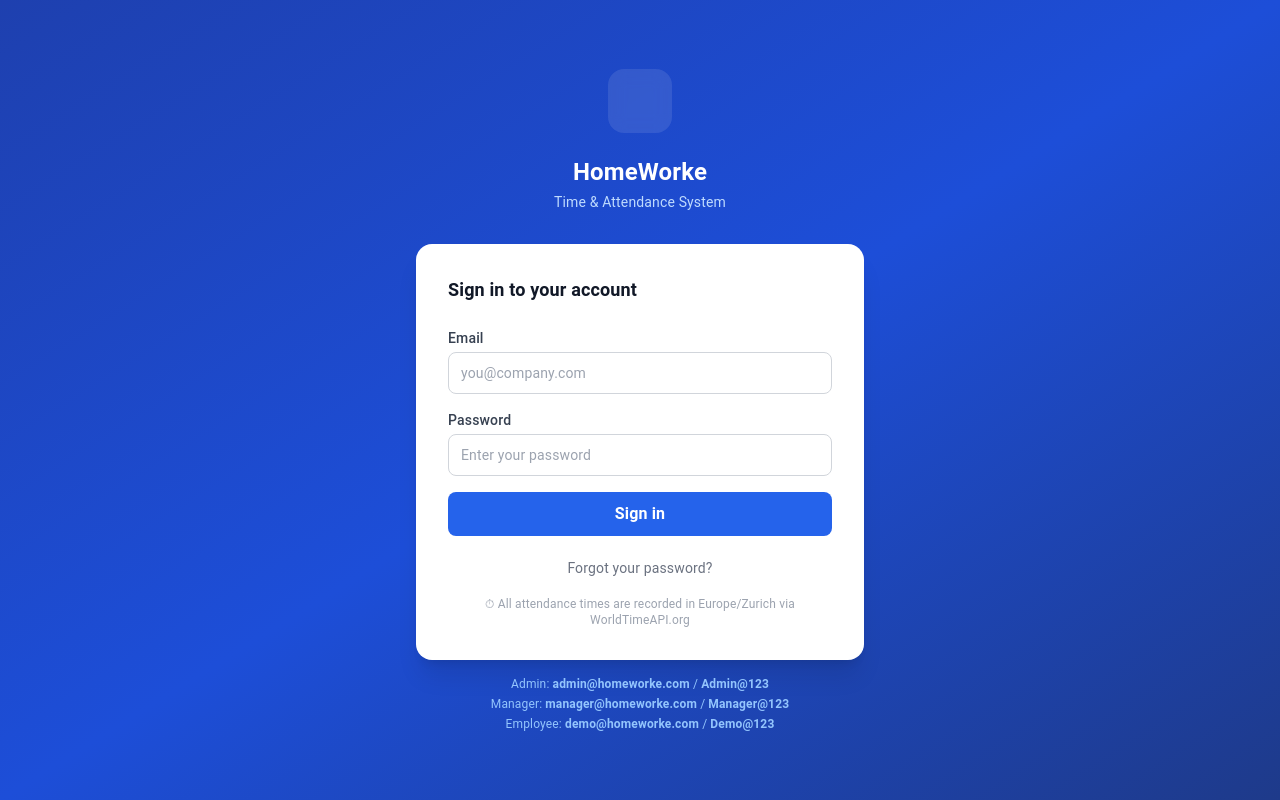
LoginPage › should show error on login failure
The image size is (1280, 800).
Type "bad@test.com" into the field with placeholder "you@company.com". click: (640, 372)
box: [448,352,832,394]
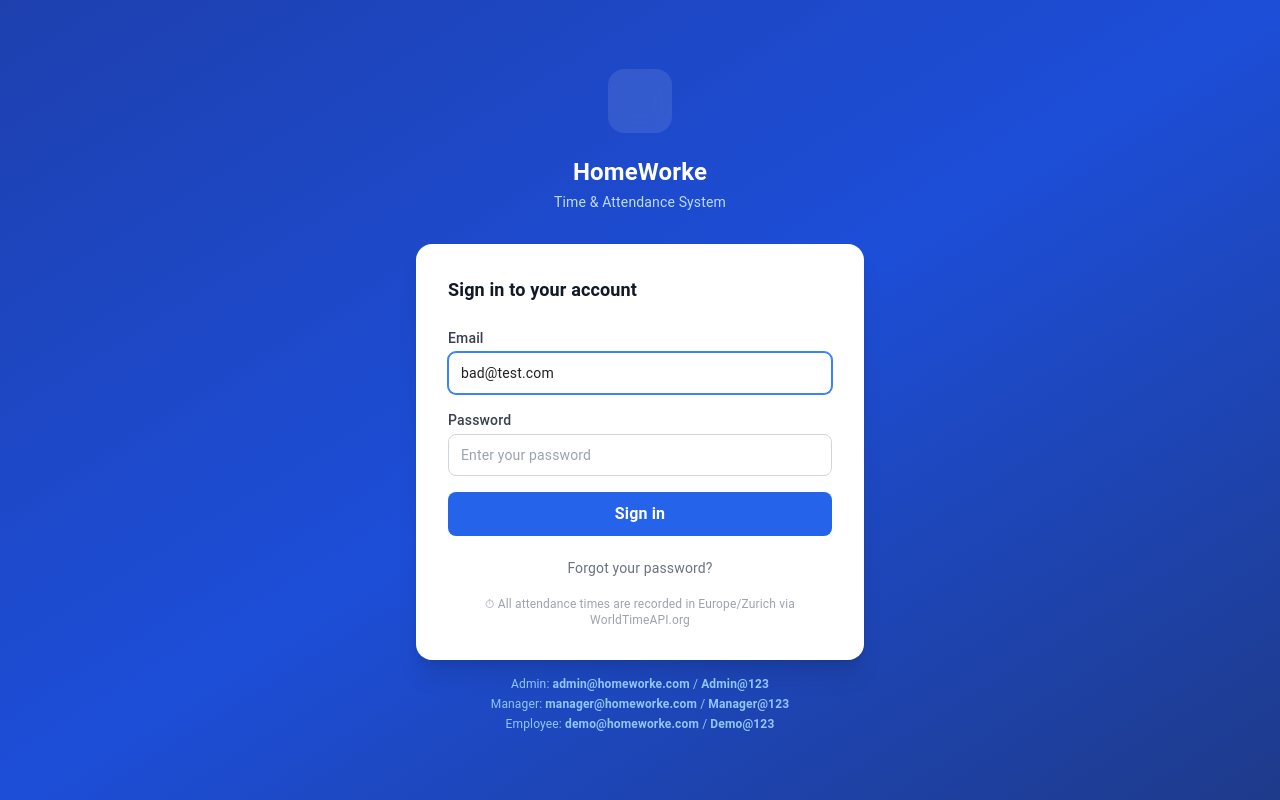
Type "wrong" into the password field with placeholder "Enter your password". click: (640, 454)
box: [448,434,832,476]
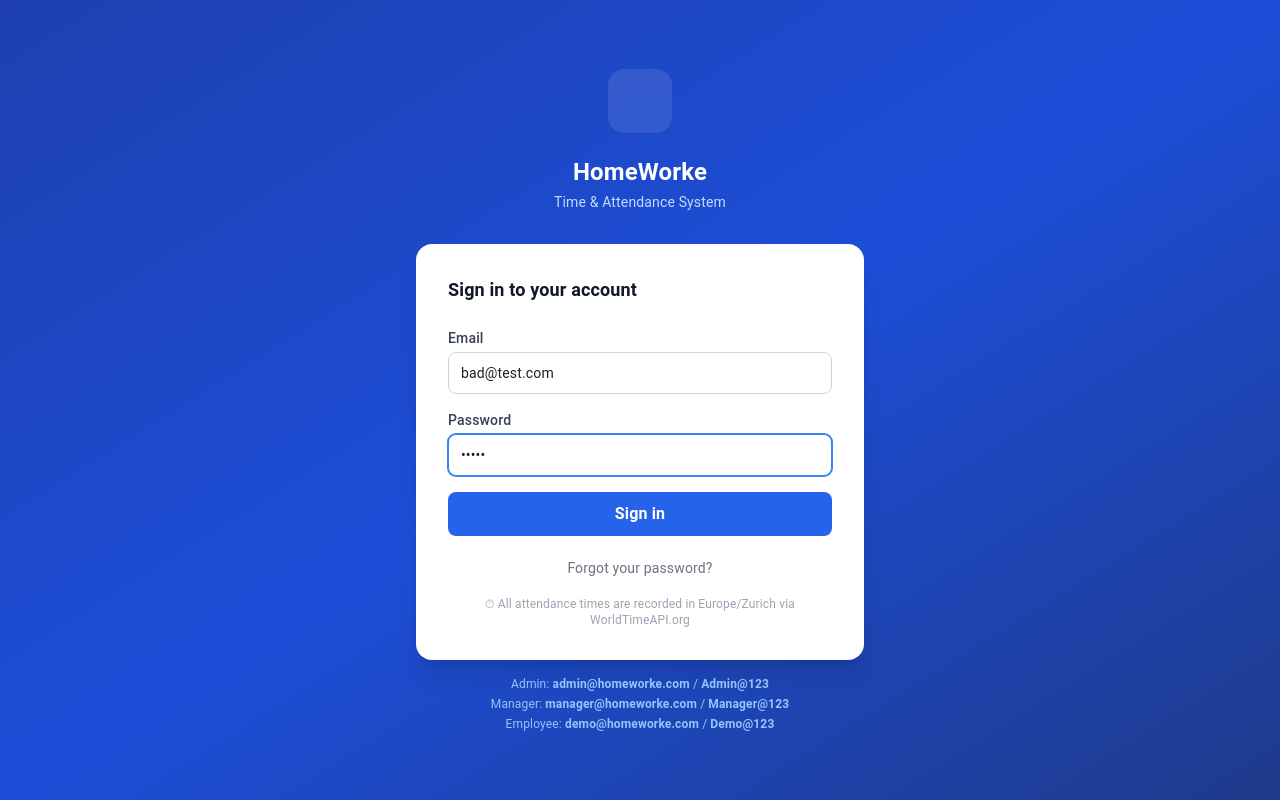
Click the button "Sign in". click: click(640, 514)
box: [448,492,832,536]
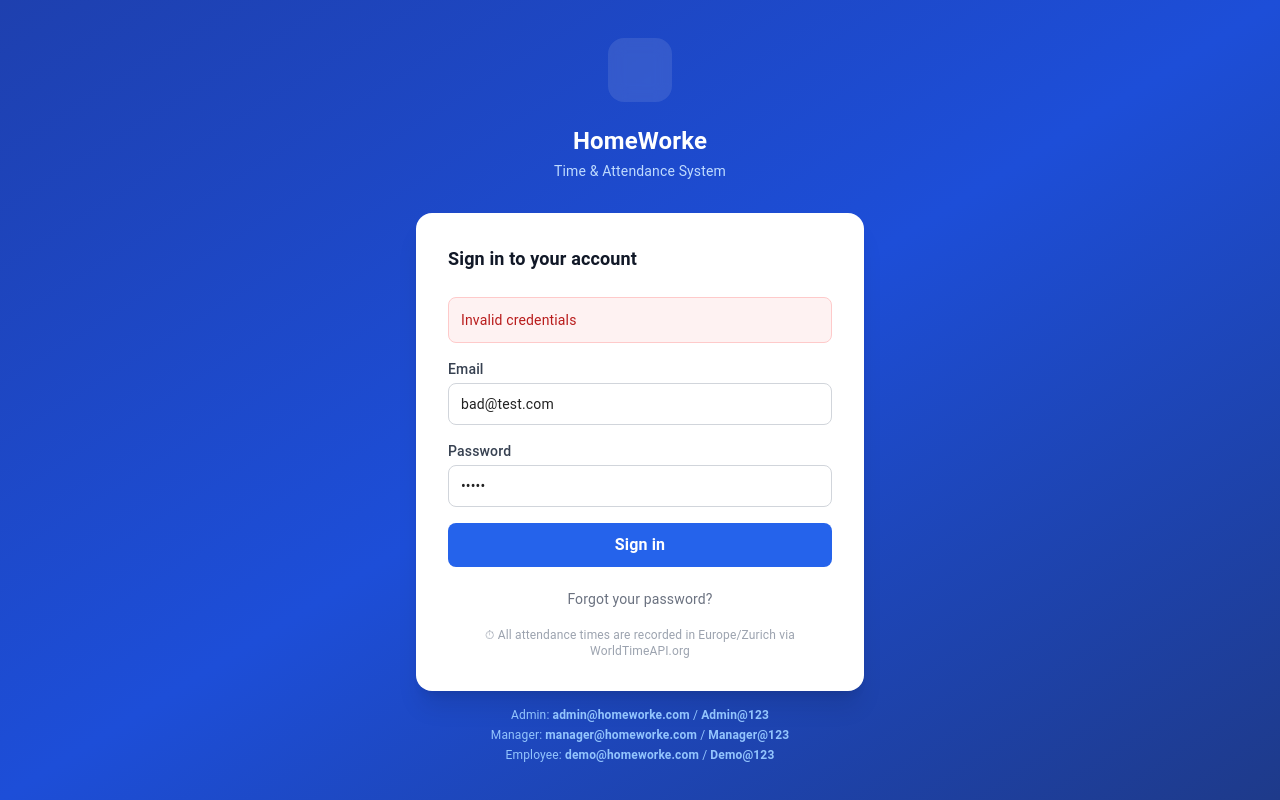
Now the text "Invalid credentials" is shown, box [448,296,832,342]
